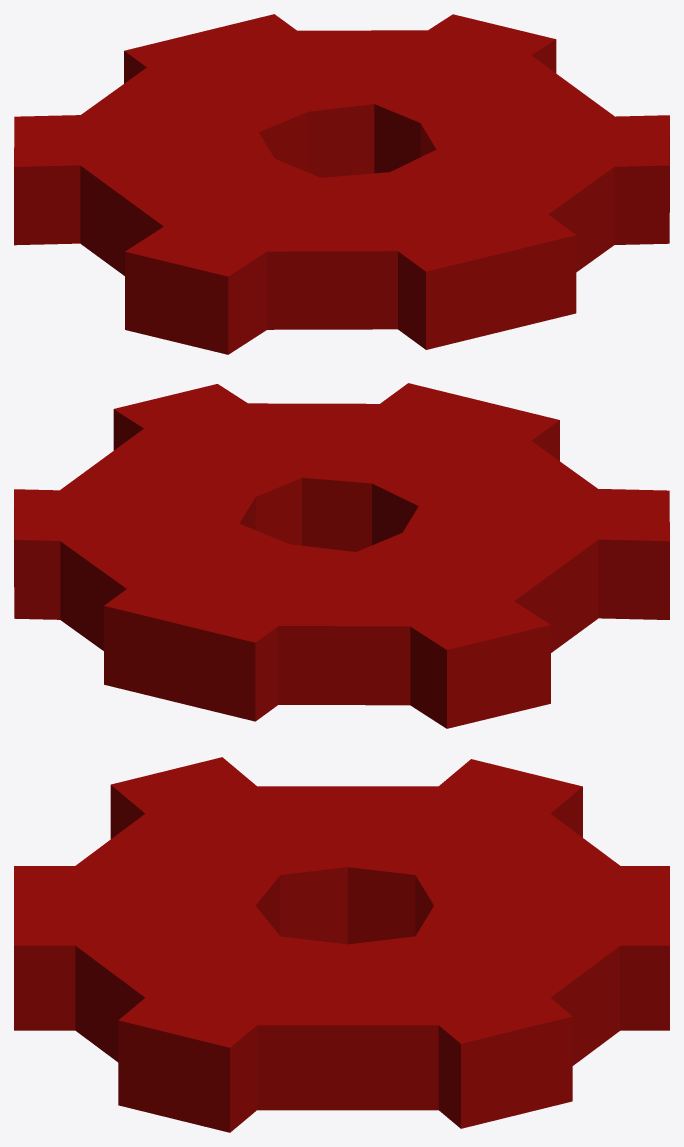
Rendered from GIMM370Gears Red.fbx.
The picture shows the model from 3 angles, top to bottom: view 1: azimuth 30°, elevation 25°; view 2: azimuth 150°, elevation 25°; view 3: azimuth 270°, elevation 25°; orthographic projection. The views are drawn at different scales.
Visible parts, largest first — view 1: Cube; view 2: Cube; view 3: Cube.
Boxes of the visible parts, box(x1,y1,x2,y2) form: Cube: box(14, 14, 669, 354); Cube: box(14, 383, 669, 728); Cube: box(14, 757, 669, 1132).
Size of the model in its own units: 316 by 43.07 by 301.
